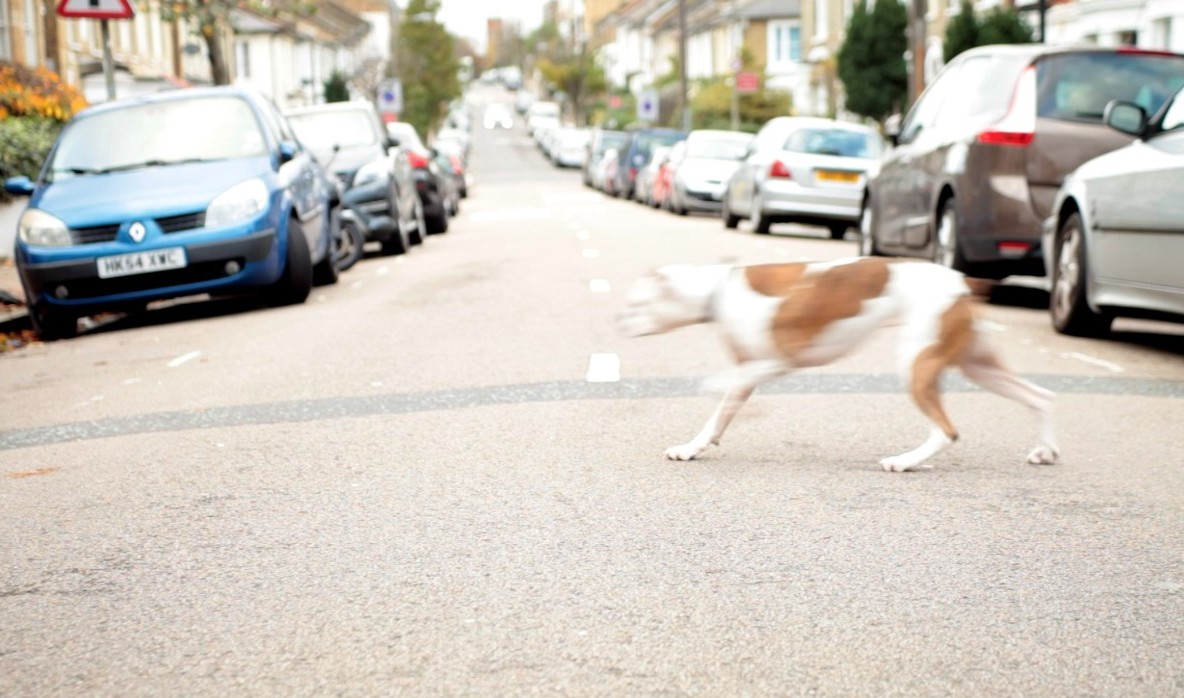Dog: (571, 239, 1103, 501)
